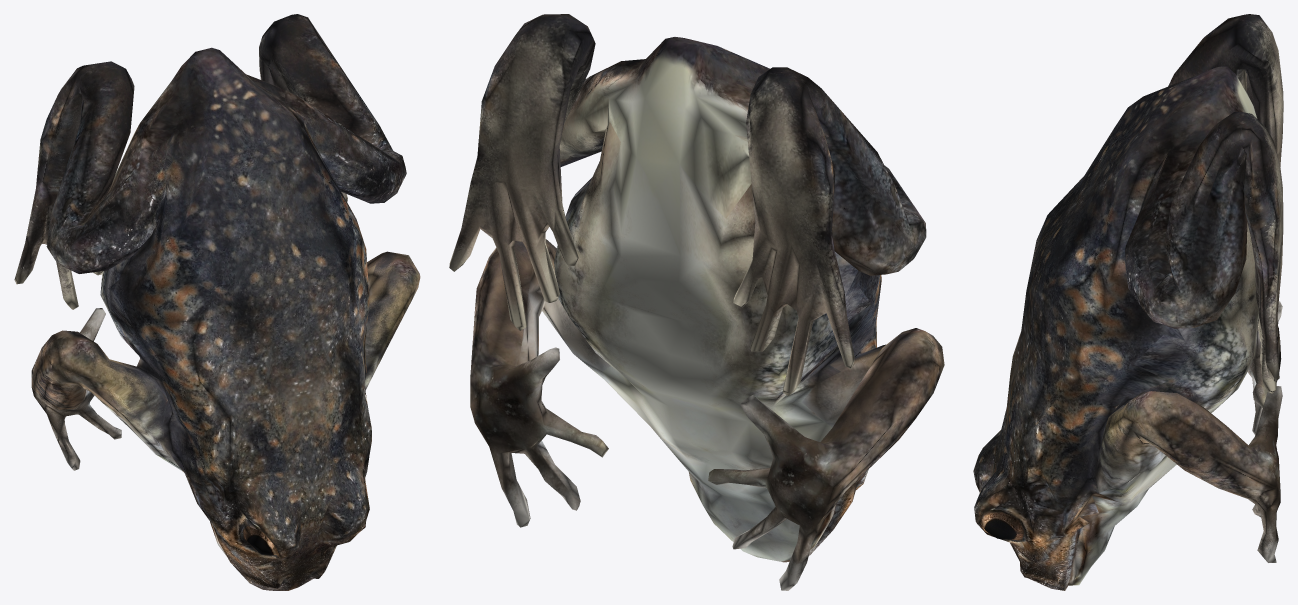
File: frog1Decimated.fbx
3 renders of one model, left to right at view 1: azimuth 30°, elevation 25°; view 2: azimuth 150°, elevation 25°; view 3: azimuth 270°, elevation 25°, orthographic. The views are drawn at different scales.
Parts seen in each view (by area): view 1: 12268_banjofrog_v1_L3; view 2: 12268_banjofrog_v1_L3; view 3: 12268_banjofrog_v1_L3.
Part boxes in pixels (x1,y1,x2,y2): 12268_banjofrog_v1_L3: (14, 14, 420, 590); 12268_banjofrog_v1_L3: (449, 14, 944, 590); 12268_banjofrog_v1_L3: (973, 14, 1283, 590).
Bounding box in the file's own units: 495 × 624 × 338.
